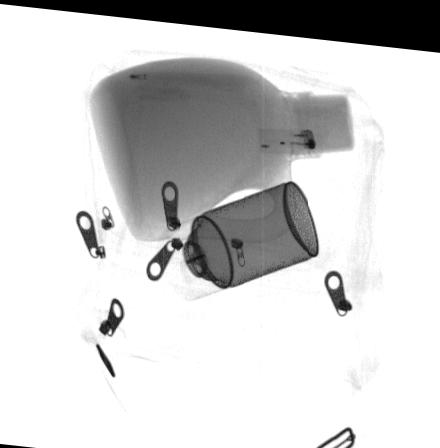Lighter: (258, 122, 316, 148)
Sprayer: (155, 174, 318, 298)
